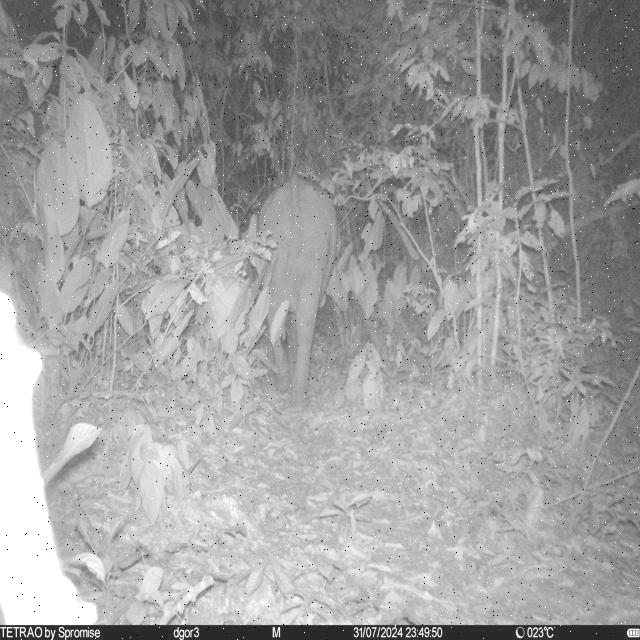calf: (256, 174, 341, 412)
